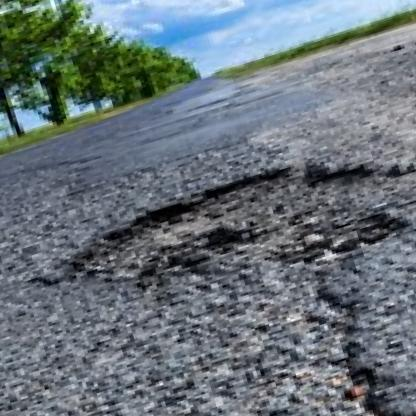pothole: (50, 124, 416, 341)
